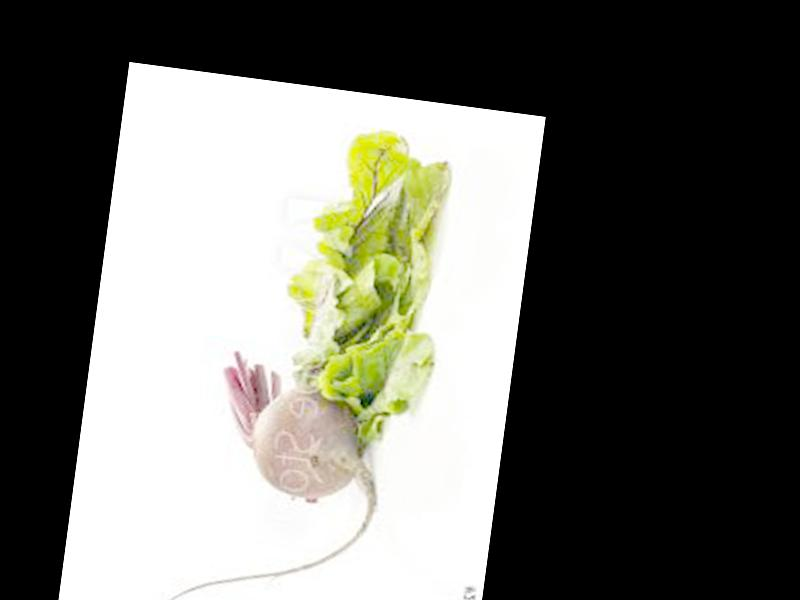Beet: (156, 341, 394, 600)
